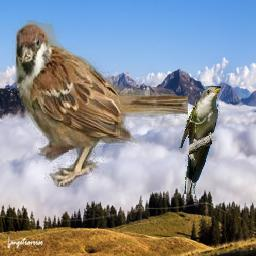Cuckoo: (179, 86, 221, 194)
Sparrow: (12, 21, 188, 188)
